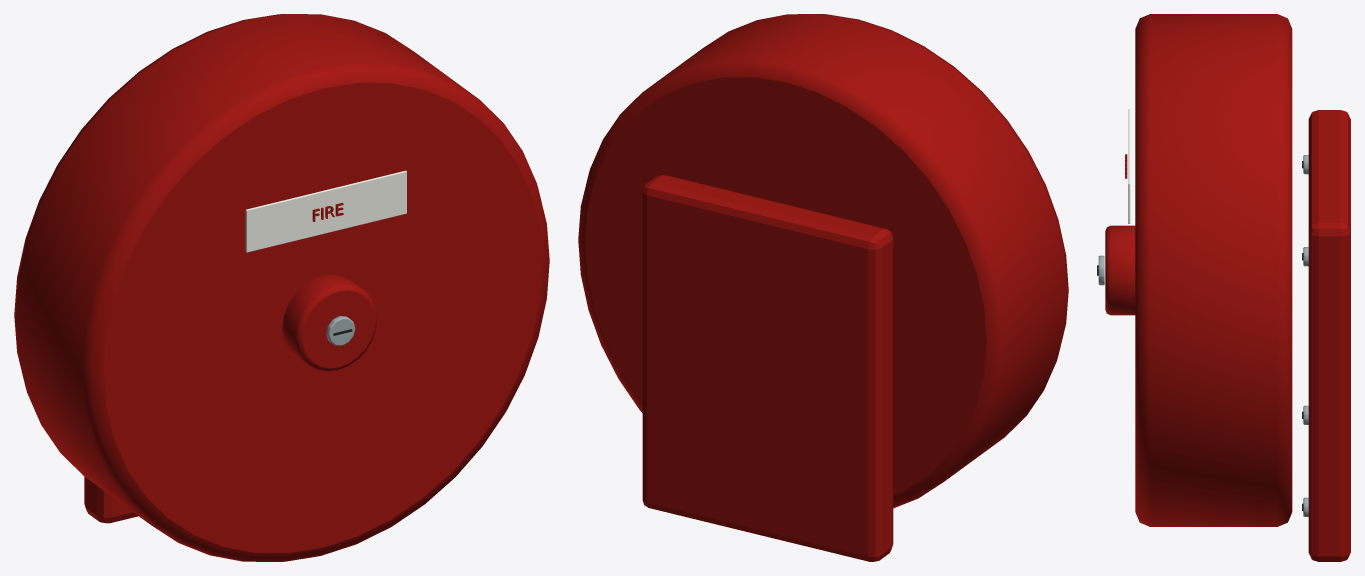
Rendered from OAA_FireAlarmBell.fbx.
3 views of the same model, side by side, from view 1: azimuth 30°, elevation 25°; view 2: azimuth 150°, elevation 25°; view 3: azimuth 270°, elevation 25° (orthographic). The views are drawn at different scales.
Visible parts, largest first — view 1: Body; view 2: Body; view 3: Body.
Boxes of the visible parts, left/top/right/bottom form: Body: left=14, top=14, right=549, bottom=561; Body: left=578, top=14, right=1068, bottom=561; Body: left=1097, top=14, right=1350, bottom=561.
Bounding box in the file's own units: 0.206 × 0.207 × 0.1019.
